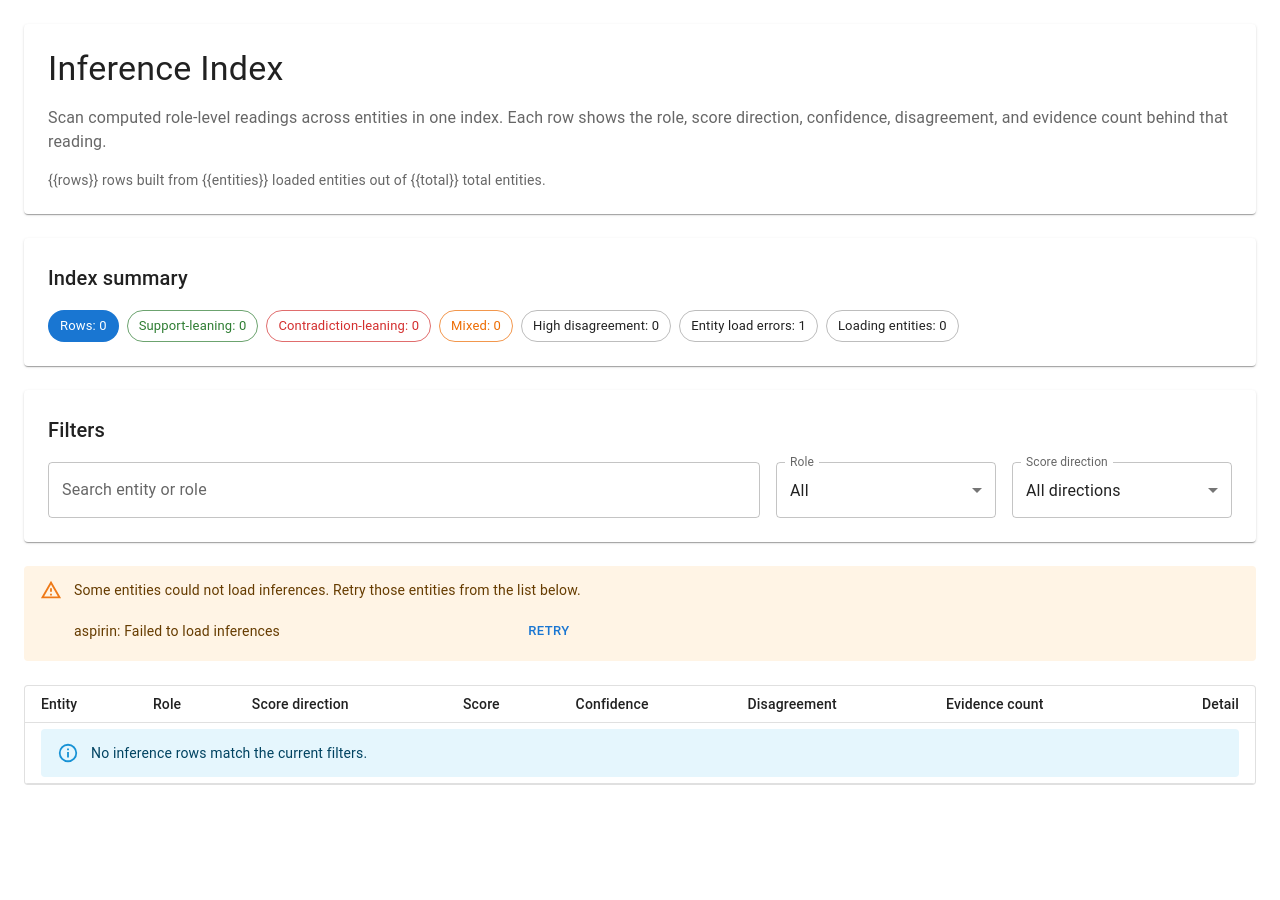
Test: InferencesView › shows an explicit entity-level error strip and retries failed entities
Expected: the text "Some entities could not load inferences" is shown, [74, 582, 581, 598]
Expected: the text "aspirin: Failed to load inferences" is shown, [74, 621, 280, 641]
What coordinates should you click on to do the following:
click the button "Retry"
I would click on:
 (549, 631)
Its box is [517, 616, 581, 647].
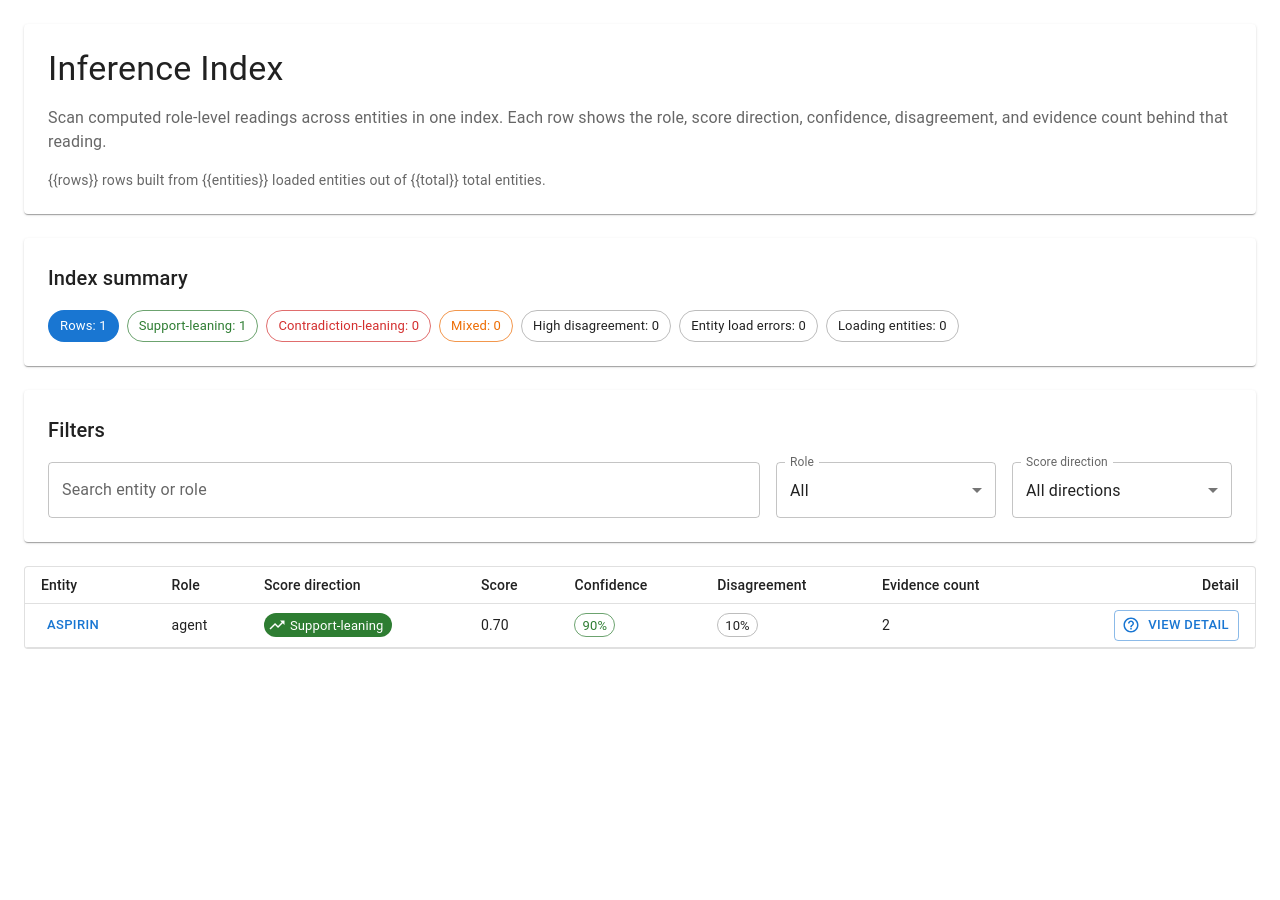
Expected: the text "agent" is shown, [156, 604, 248, 647]
